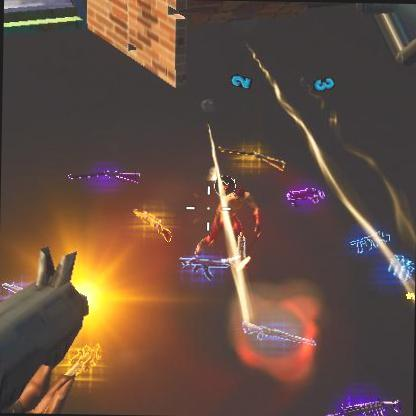person: (217, 185, 255, 273)
